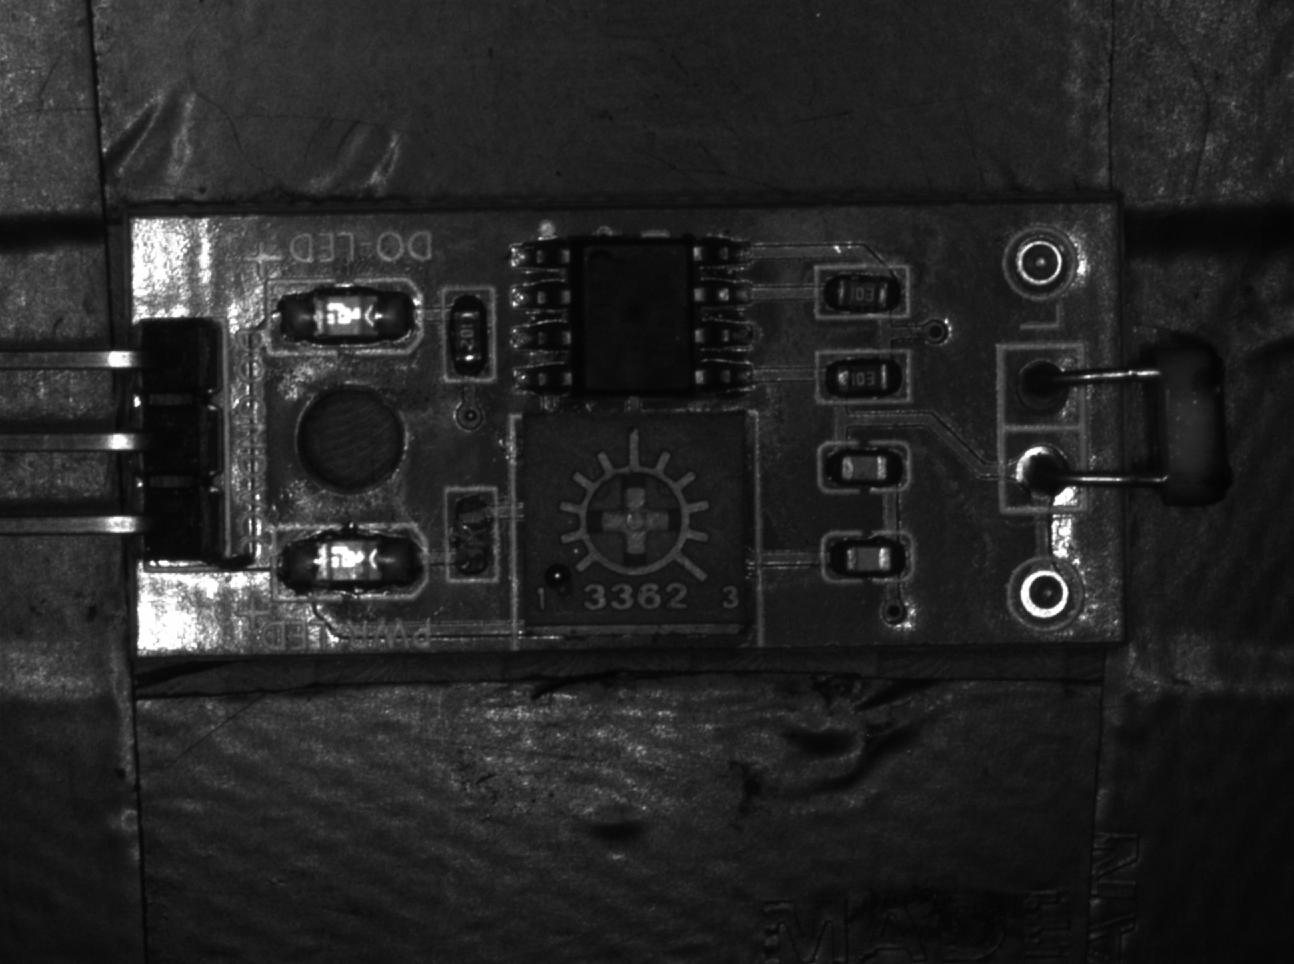miss: (444, 489, 498, 579)
ok: (813, 349, 913, 405), (815, 264, 910, 318), (824, 531, 915, 585), (441, 290, 494, 383), (820, 444, 909, 491)
